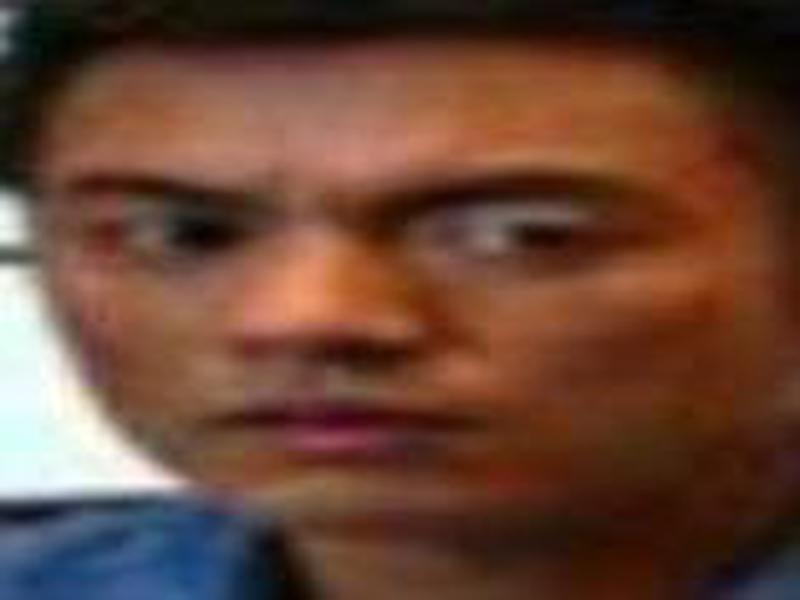without_mask: (36, 36, 761, 550)
